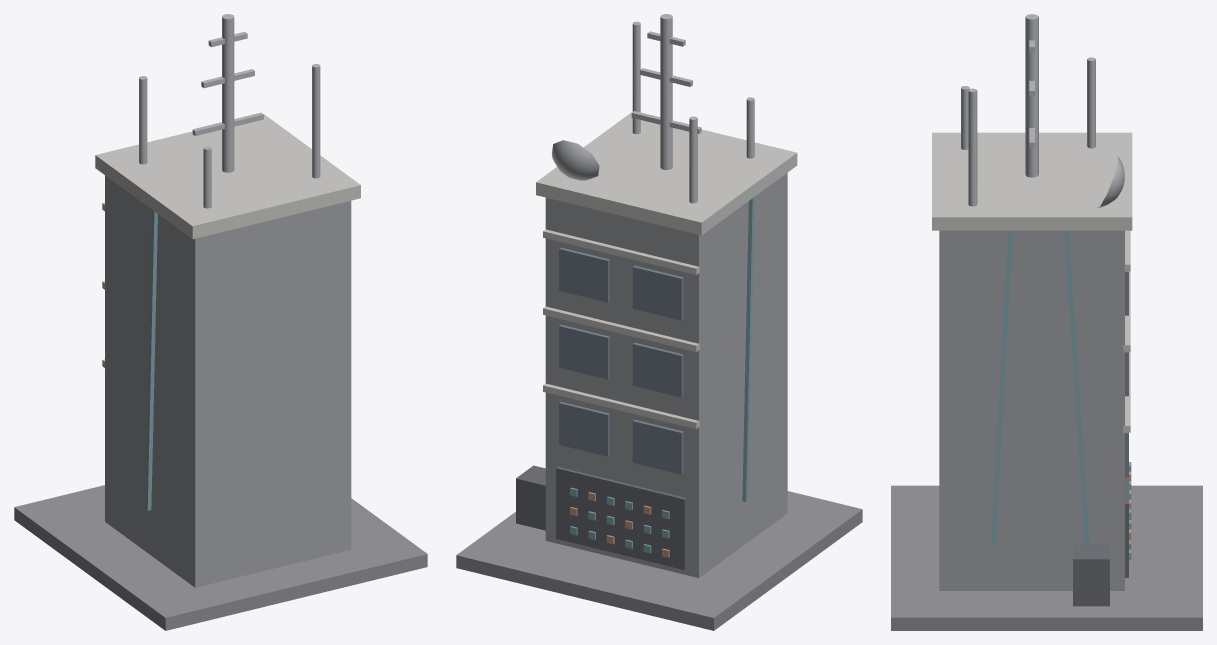
File: kind-switchboard.glb
3 views of the same model, side by side, from view 1: azimuth 30°, elevation 25°; view 2: azimuth 150°, elevation 25°; view 3: azimuth 270°, elevation 25° (orthographic). The views are drawn at different scales.
Visible parts, largest first — view 1: kind-switchboard; view 2: kind-switchboard; view 3: kind-switchboard.
Part boxes in pixels (bbox=[...]): kind-switchboard: bbox=[14, 14, 427, 630]; kind-switchboard: bbox=[456, 14, 862, 630]; kind-switchboard: bbox=[891, 14, 1202, 630].
Size of the model in its own units: 0.84 by 1.63 by 0.84.
